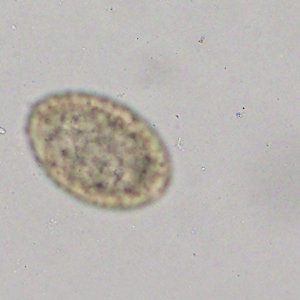Fasciola_hepatica_egg: (22, 87, 172, 212)
